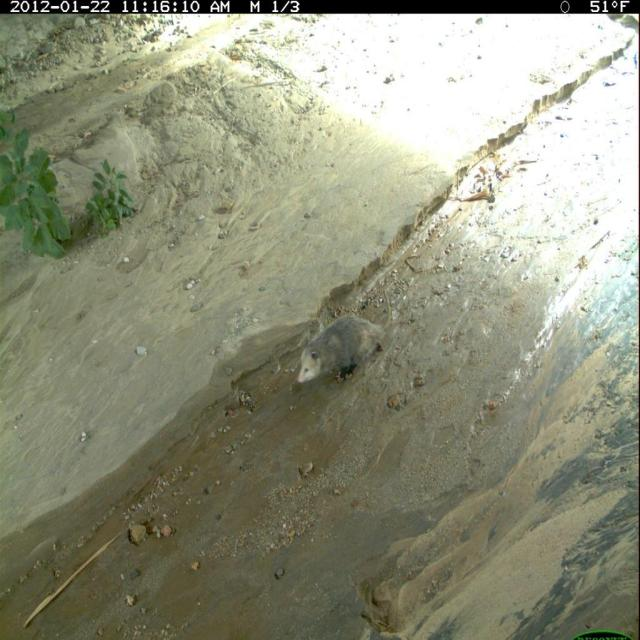opossum: (294, 282, 397, 395)
